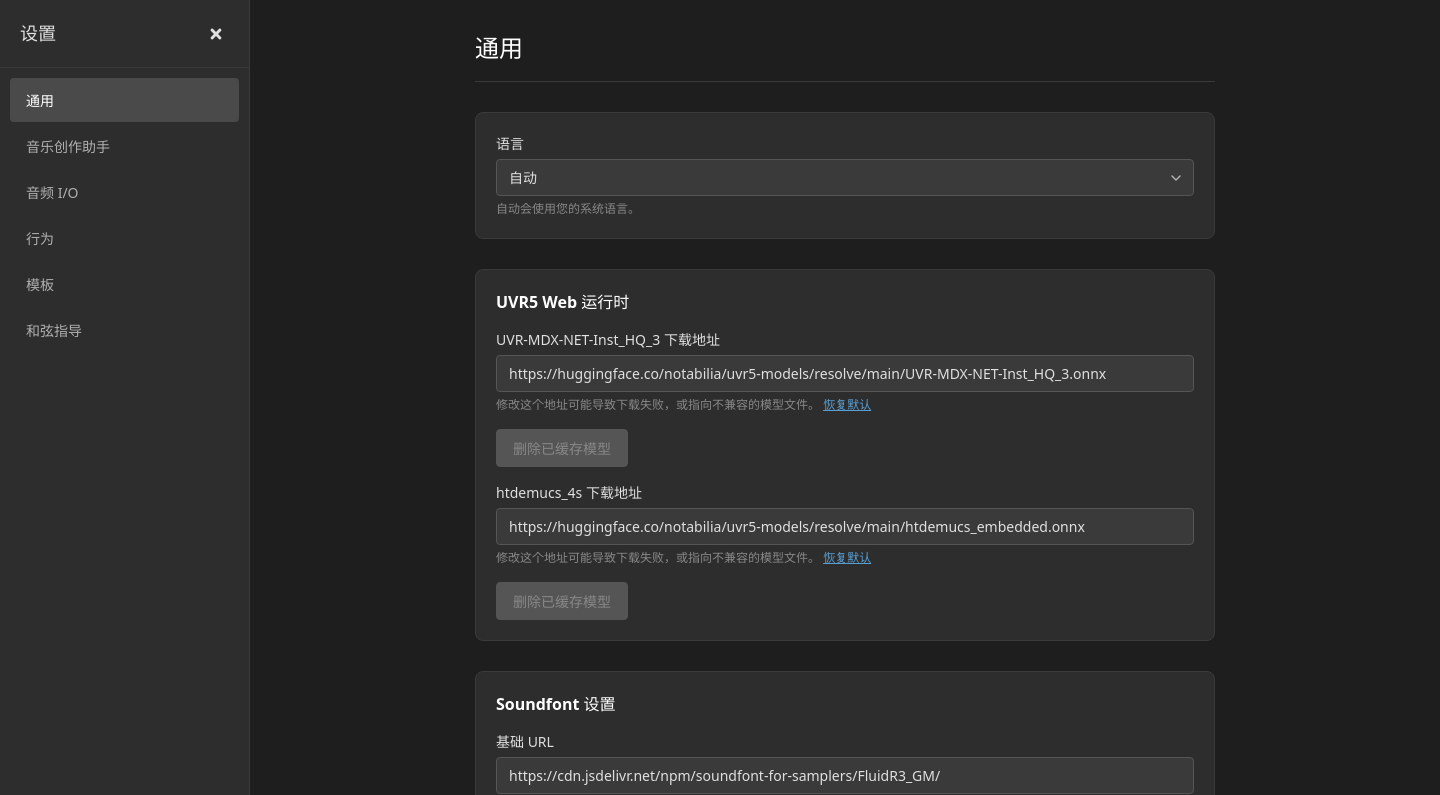
MusicAssistantSettings › uses the confirmed tab and title translation for zh_cn
What coordinates should you click on to do the following:
click the button "音乐创作助手"
I would click on:
 (124, 146)
Its box is [10,124,239,168].
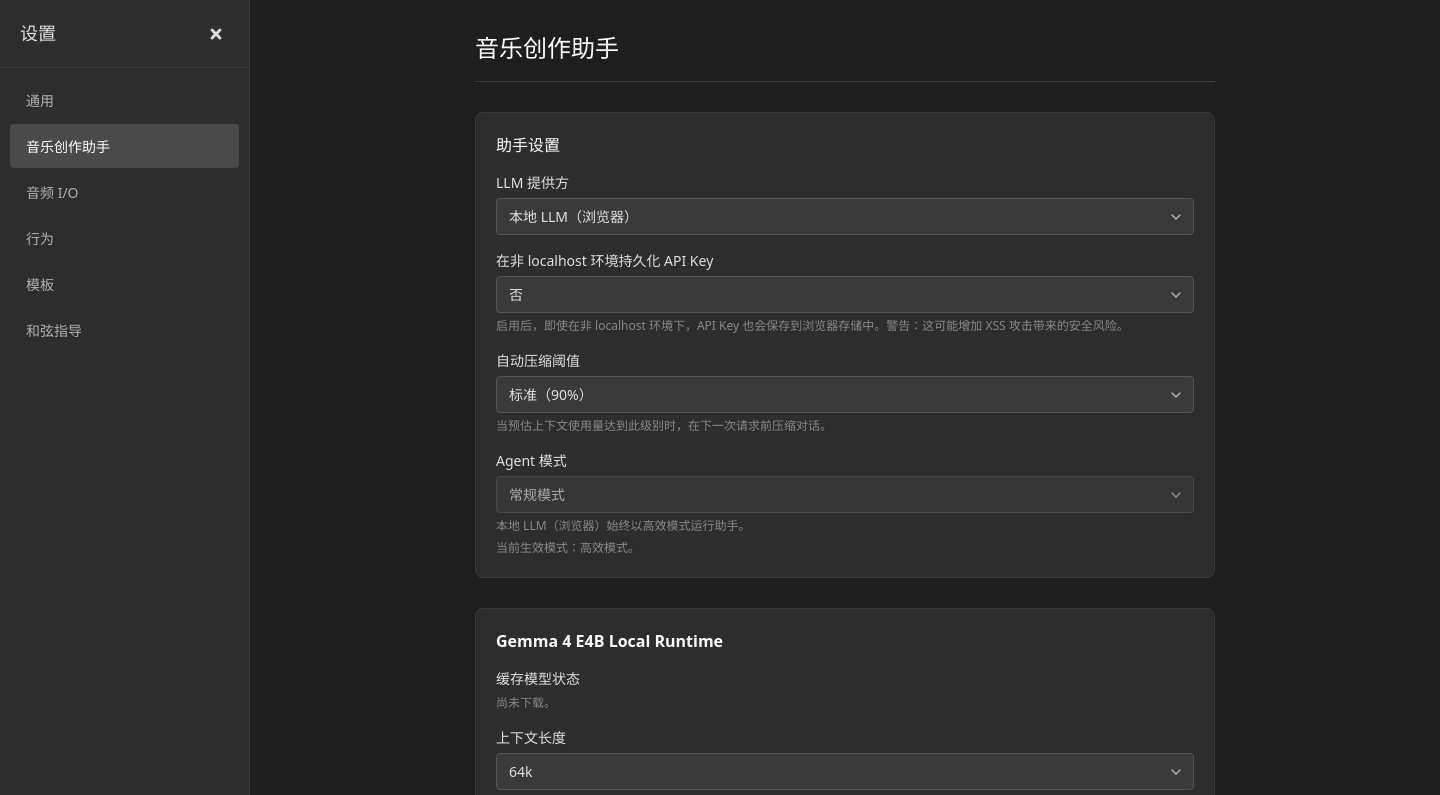
Now the heading "音乐创作助手" is shown, box [475,31,619,64]
